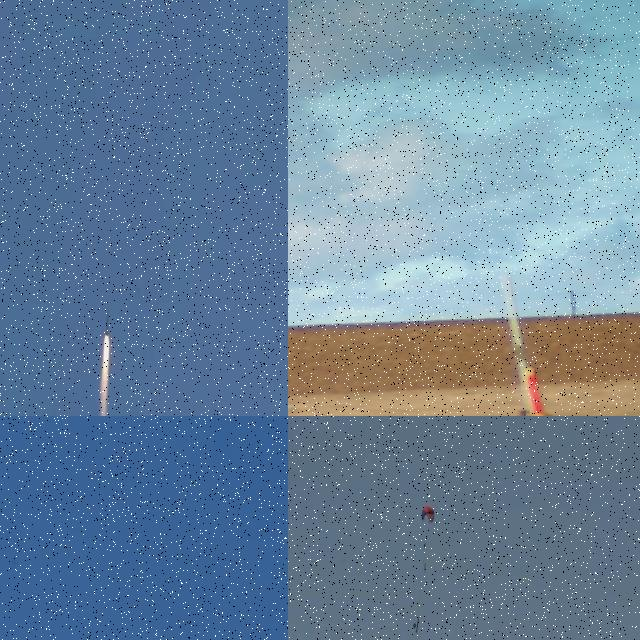Rocket: (523, 365, 556, 416), (104, 309, 110, 336)
